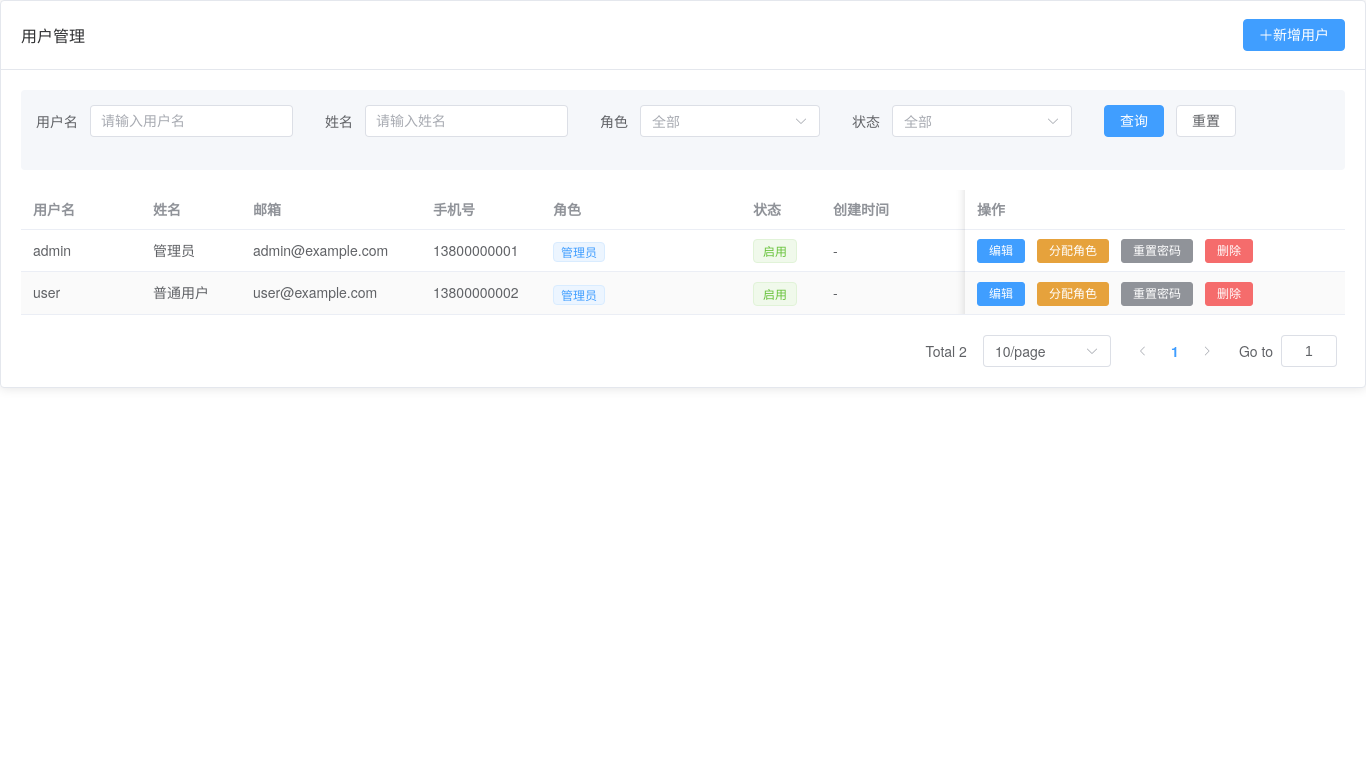
Test: UserManagement.vue › AddDialog_NoPasswordField：新增弹窗无密码框，用户名与姓名输入框存在
Check: the text "用户管理" is shown, box [21,23,85,47]
Check: the element that starts with "用户名" is shown, box [21,190,1345,315]
Click the button "新增用户": click(1294, 35) [1243,19,1345,51]
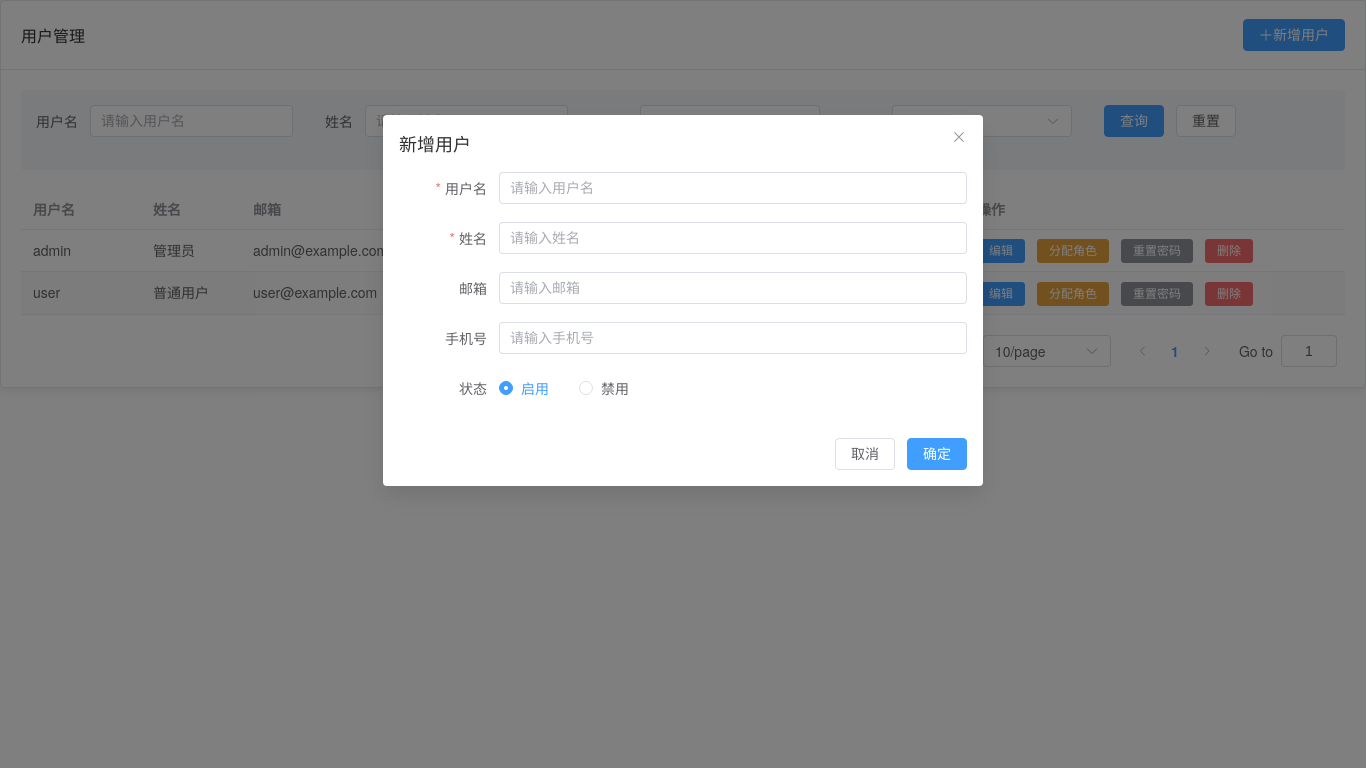
Check: the heading "新增用户" is shown, box [399,130,471,156]
Check: the field with id "username" is shown, box [510,173,956,203]
Check: the field with id "realName" is shown, box [510,223,956,253]
